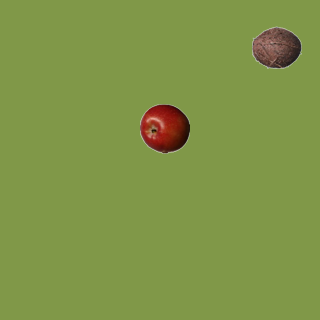Apple Braeburn: (139, 103, 189, 153)
Cocos: (251, 22, 301, 72)
